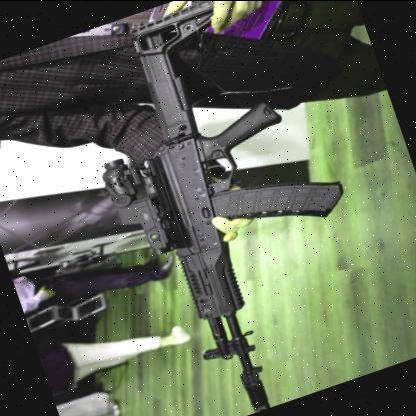rifle: (74, 0, 416, 416)
